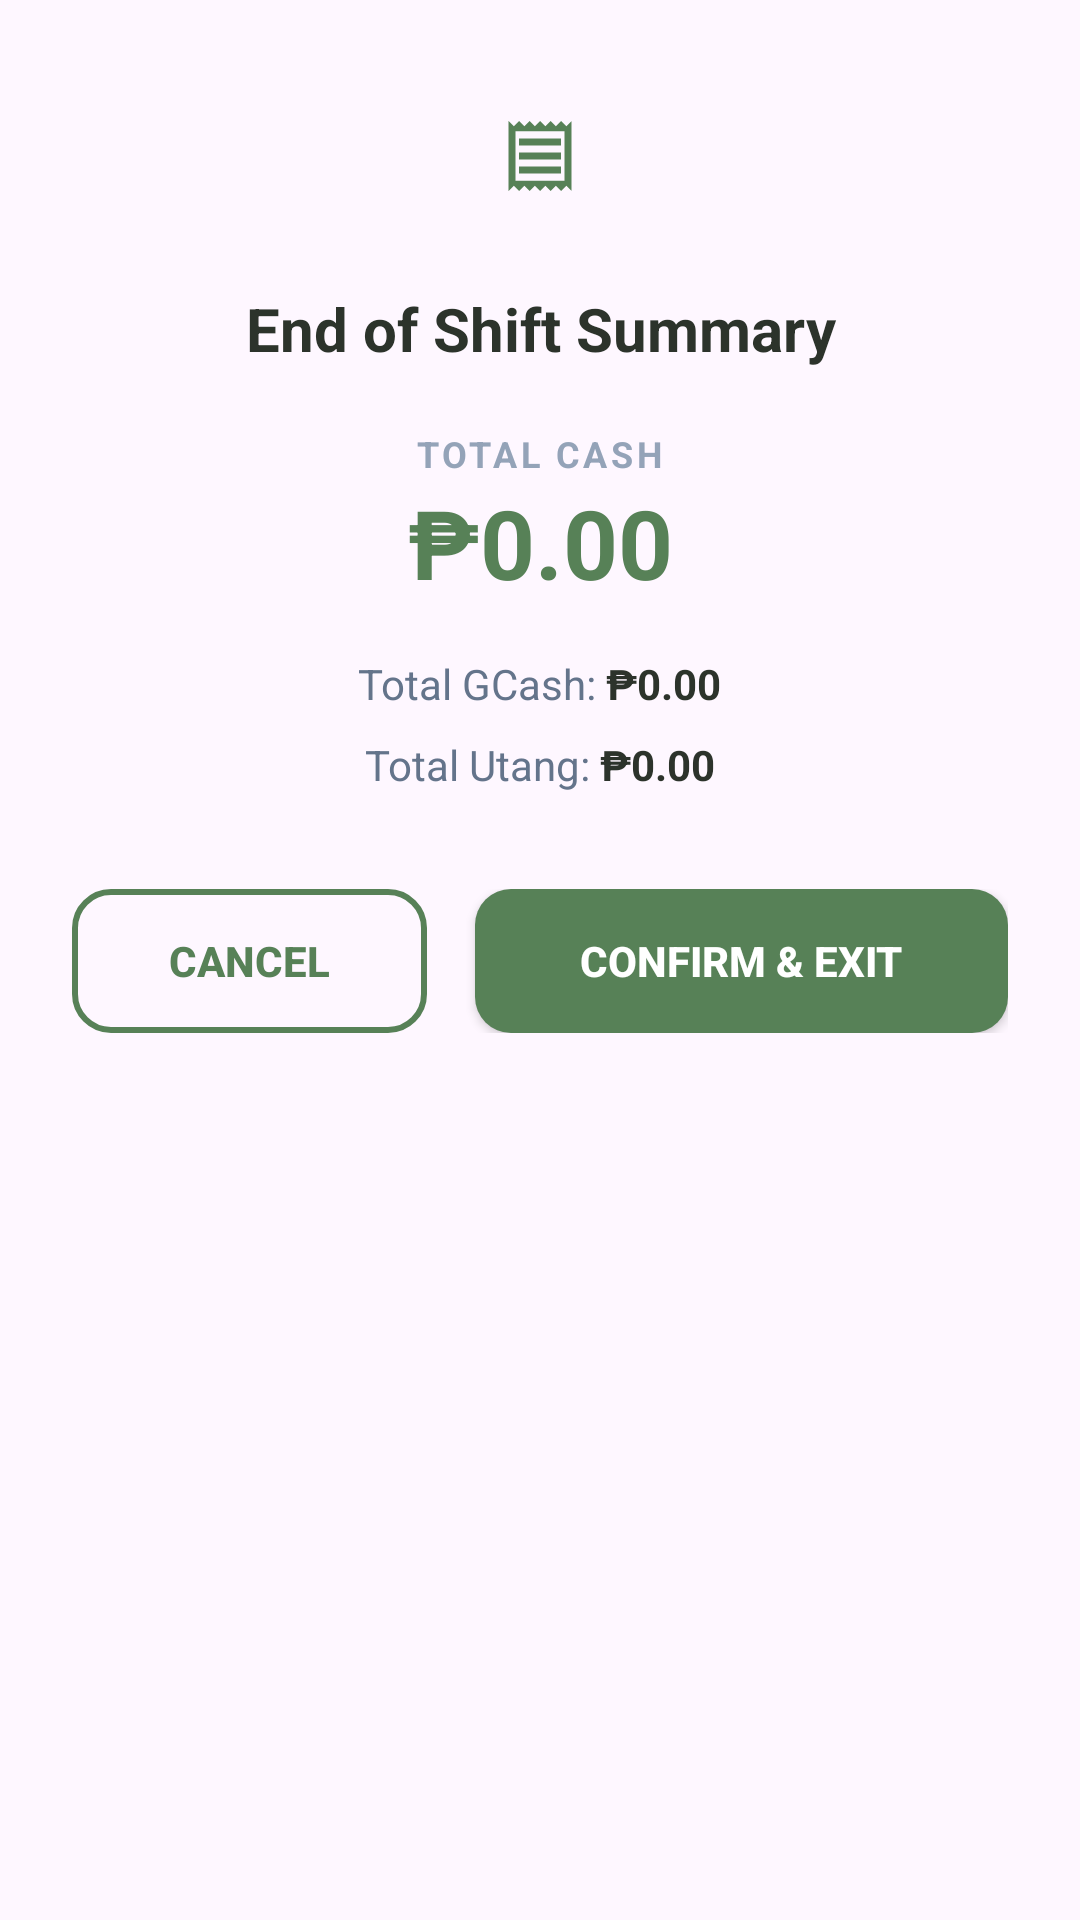

Where icons sit on this 1080 x 1920 app screen, as rect(x1, y1, x2, y2):
receipt: rect(508, 121, 572, 191)
